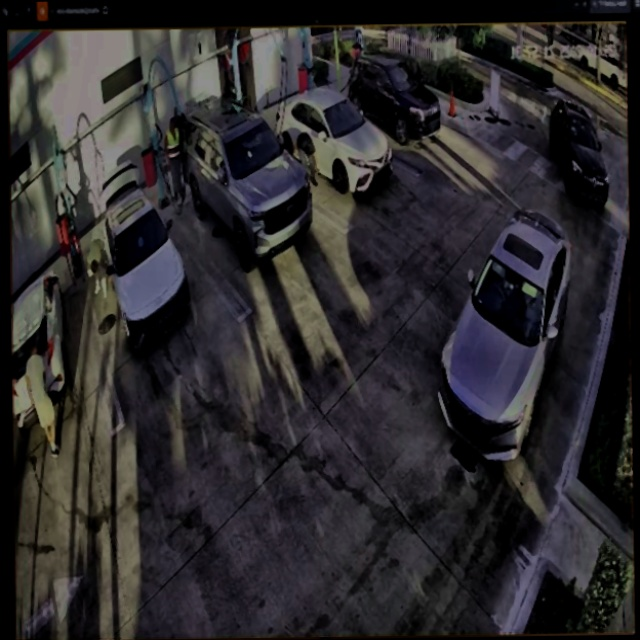Car: (431, 205, 574, 462), (183, 100, 313, 268), (101, 163, 187, 356), (276, 86, 394, 198)
